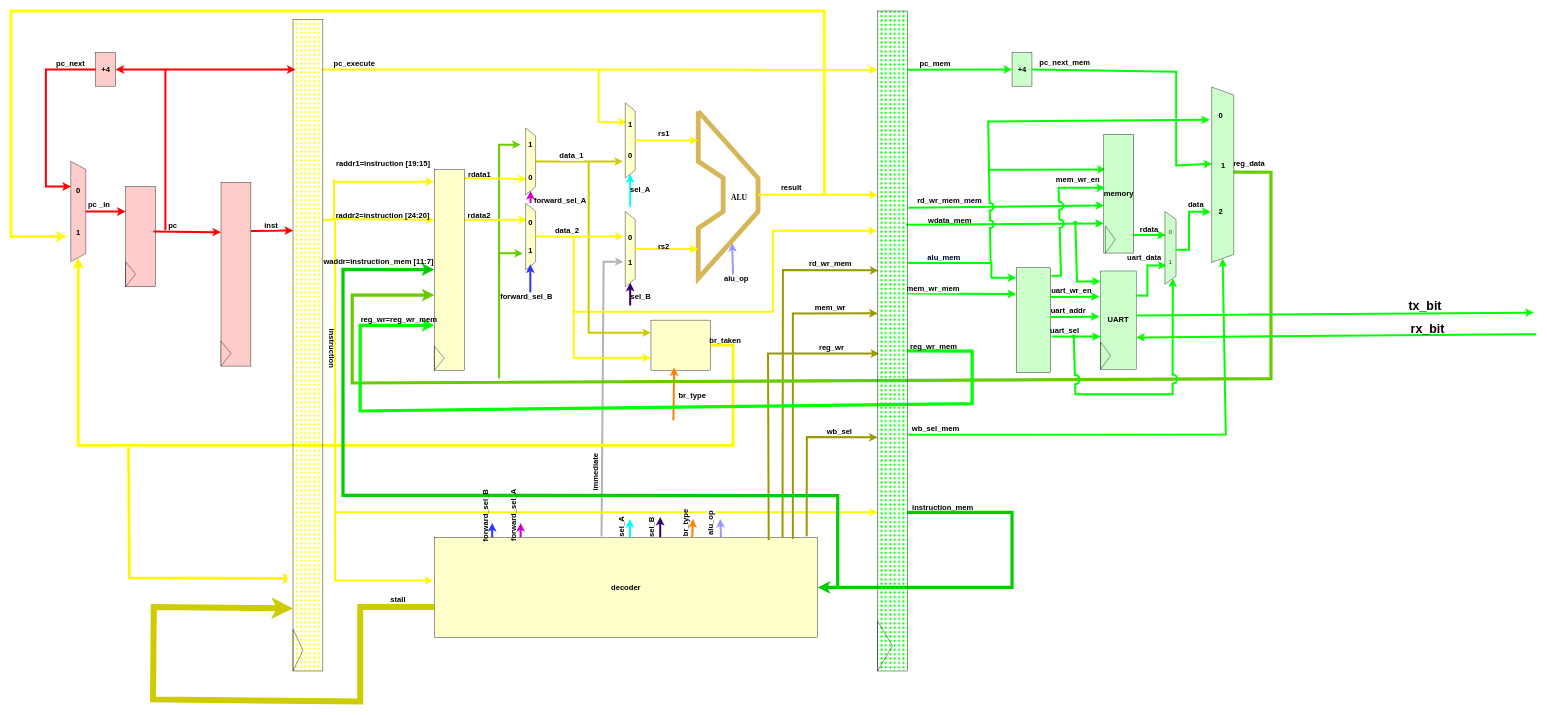
This 1547x715 diagram has some shape labels left out. The centre of each missing label's shape, as x and y in pixels:
"branch condition" goes at (x=681, y=345).
"LSU" goes at (x=1033, y=320).
